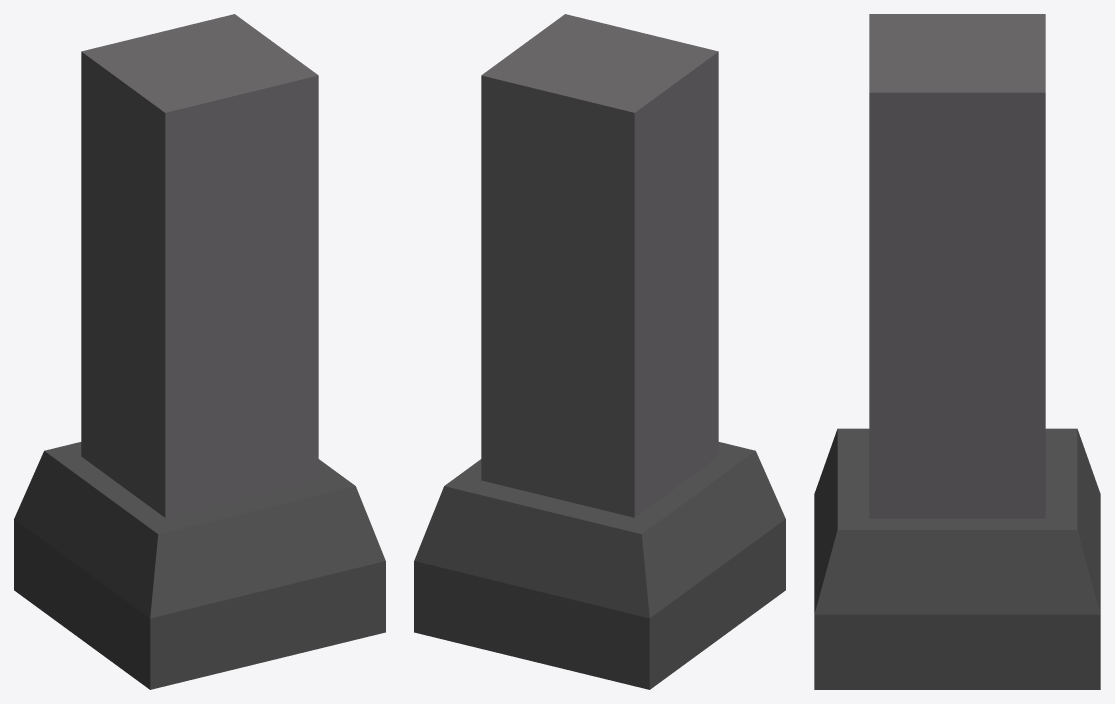
Rendered from Pillar_Full_Base.fbx.
3 renders of one model, left to right at view 1: azimuth 30°, elevation 25°; view 2: azimuth 150°, elevation 25°; view 3: azimuth 270°, elevation 25°, orthographic. The views are drawn at different scales.
Parts seen in each view (by area): view 1: Pillar_Full_Base; view 2: Pillar_Full_Base; view 3: Pillar_Full_Base.
Part boxes in pixels (<box>): Pillar_Full_Base: <box>14,14,385,689</box>; Pillar_Full_Base: <box>414,14,785,689</box>; Pillar_Full_Base: <box>814,14,1100,689</box>.
Size of the model in its own units: 69 by 153 by 69.
